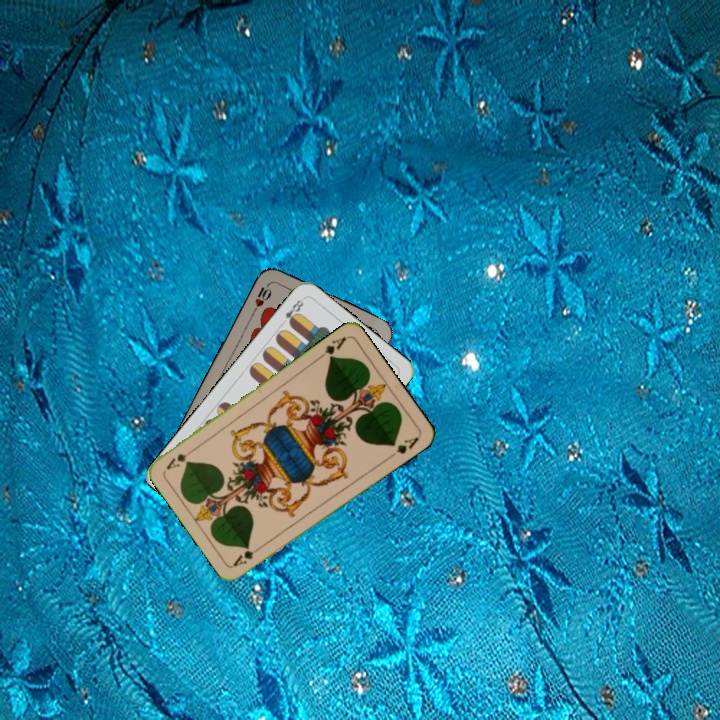E8: (276, 294, 307, 328)
GA: (229, 541, 266, 569), (314, 333, 349, 362)
H10: (249, 278, 274, 316)
